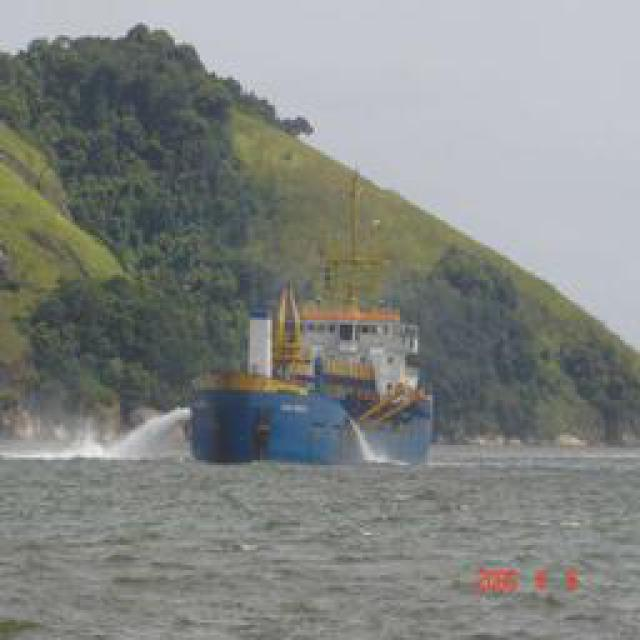Ship: (181, 278, 440, 472)
